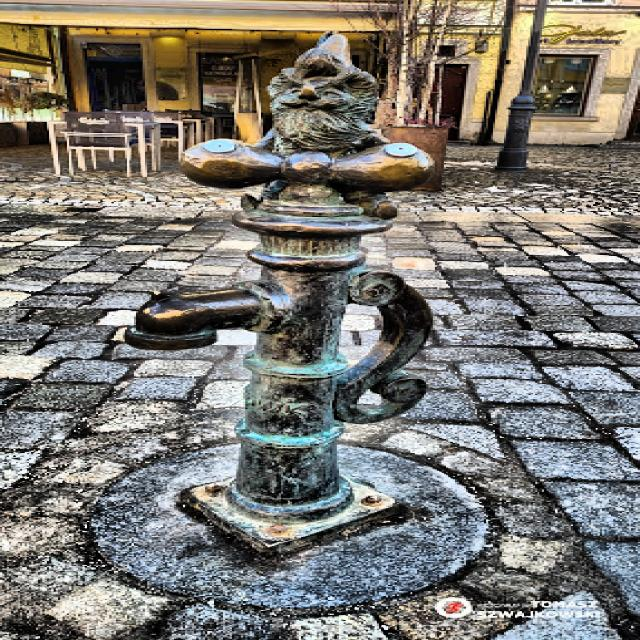Orzezwiacz: (123, 33, 433, 517)
